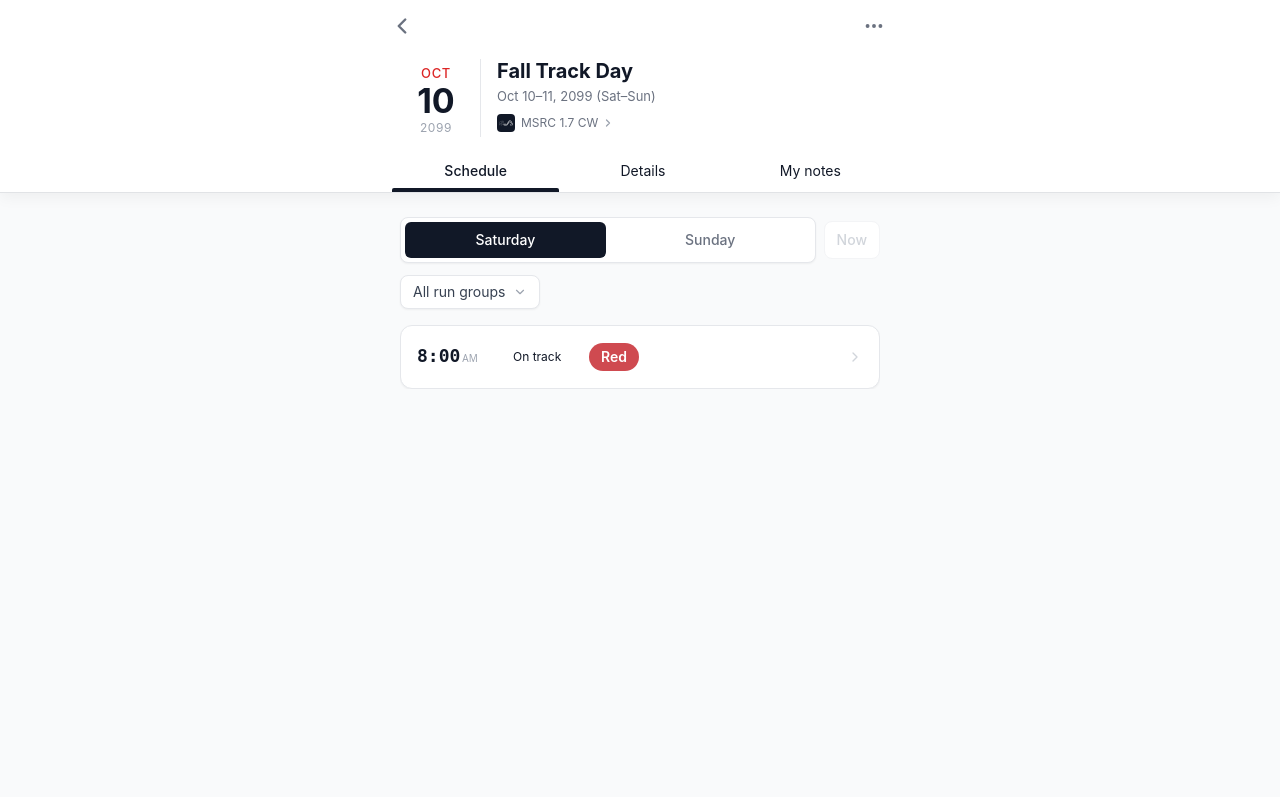
Edit details (#232) › opens from the event menu with the details filled in, saves them, and goes back with a toast
The width and height of the screenshot is (1280, 797).
Step 1. Click the button named "More actions" → [874, 26], box [856,8,892,44]
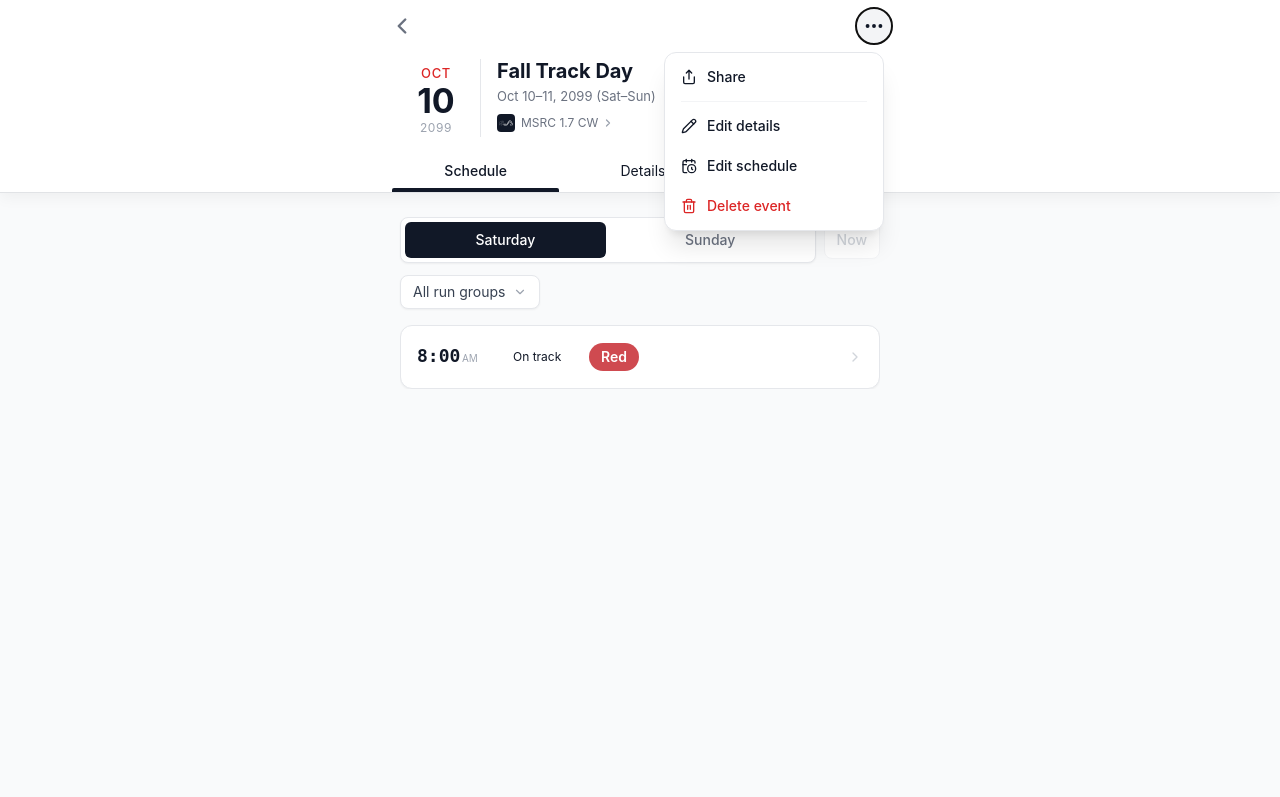
Step 2. Click the menu item "Edit details" → [774, 126], box [669,106,879,146]
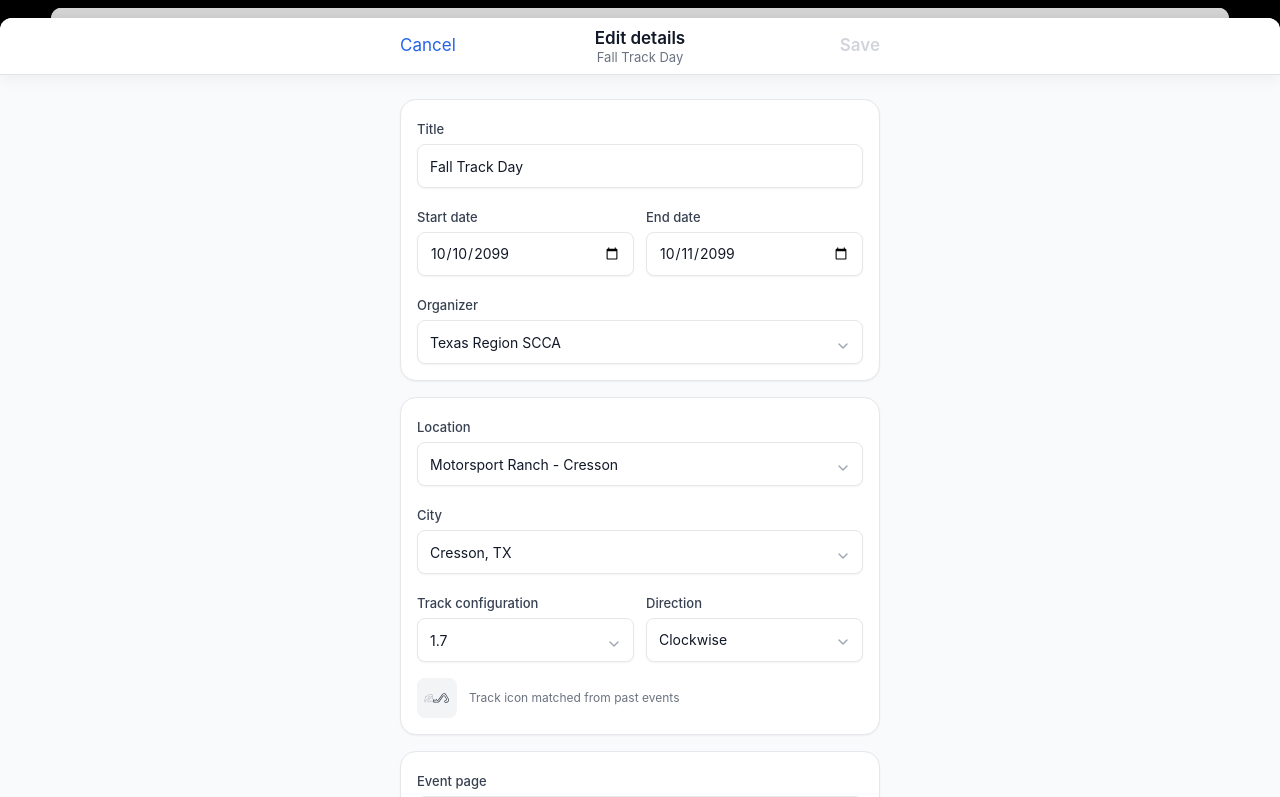
Expected: the heading "Edit details" is shown, [595,27,685,49]
Expected: the field labelled "Title" holds "Fall Track Day"
Expected: the date field labelled "Start date" holds "2099-10-10", [417,232,634,276]
Step 3. Replace the text in the field labelled "Title" with "Fall Track Day CCW" → [640, 166], box [417,144,863,188]
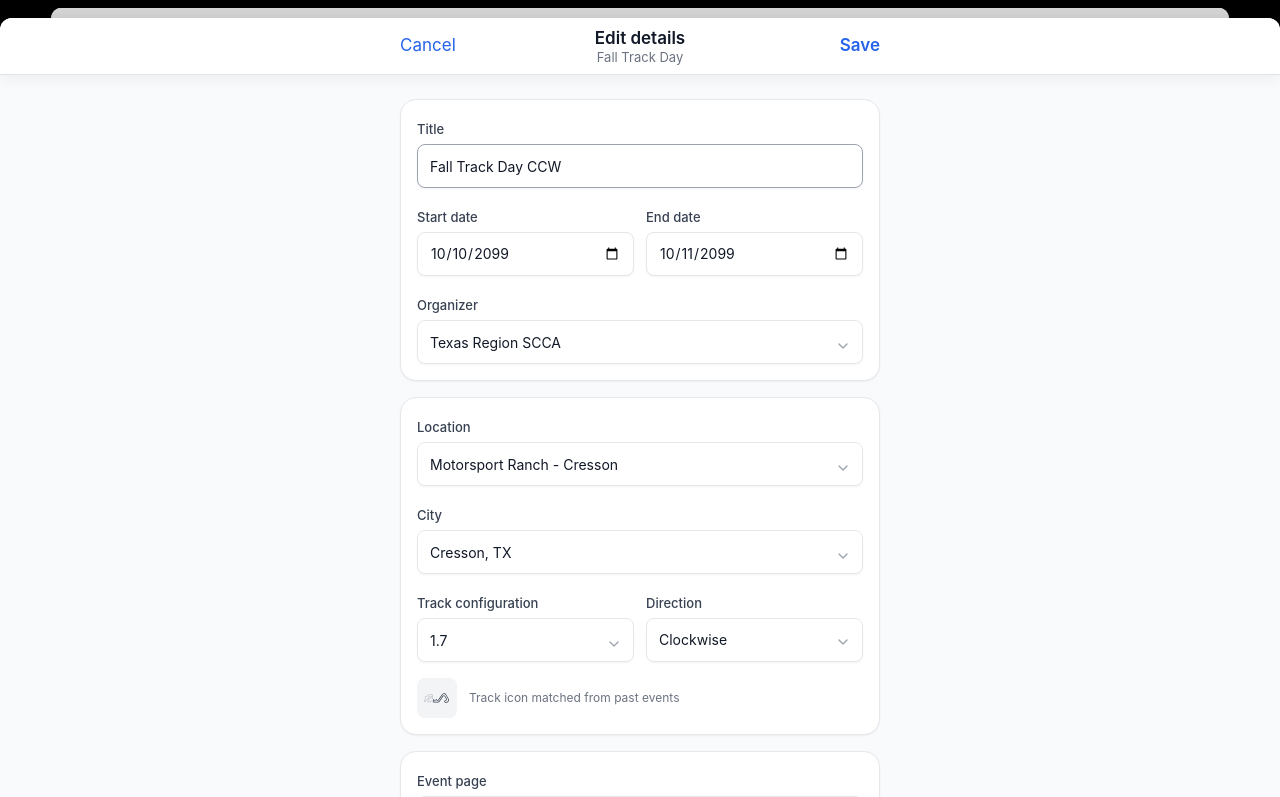
Step 4. Select "Counter-clockwise" in the dropdown labelled "Direction" → [754, 640], box [646,618,863,662]
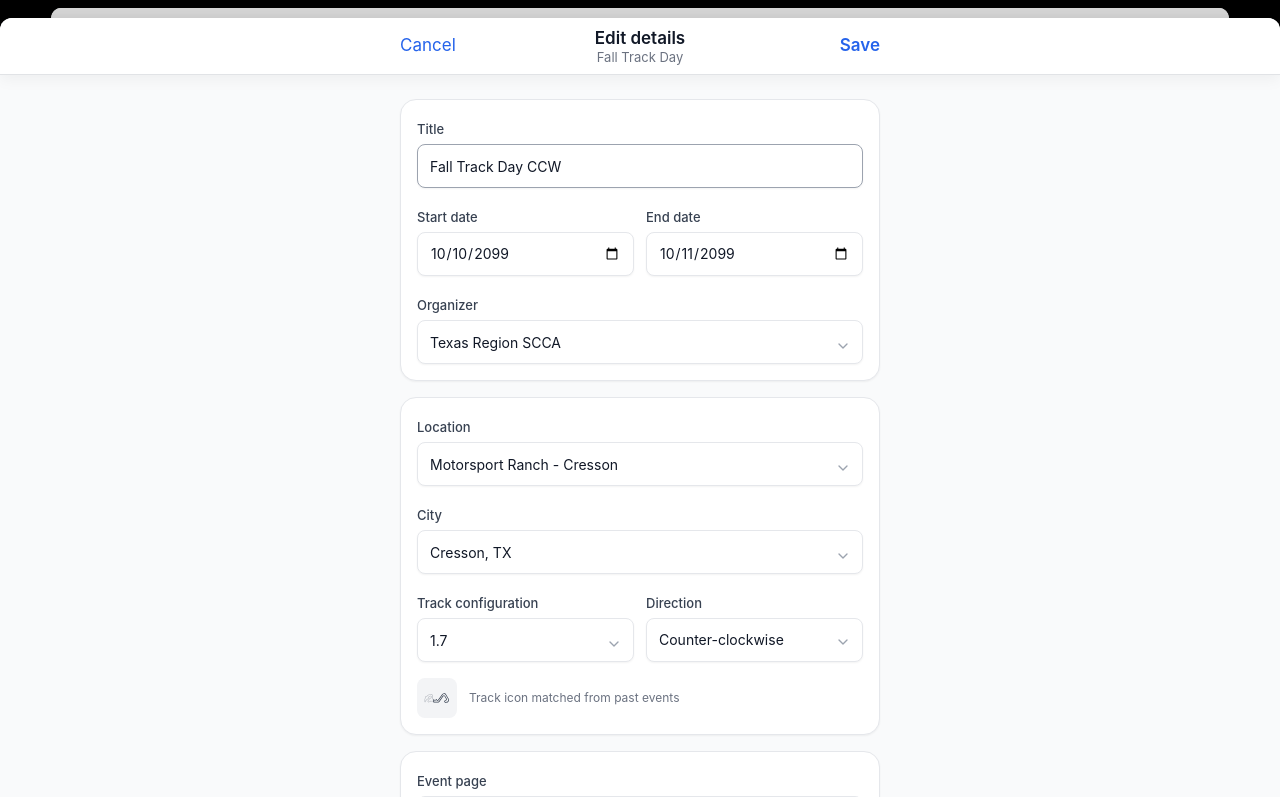
Step 5. Click the button "Save" → [860, 46], box [832,25,888,67]
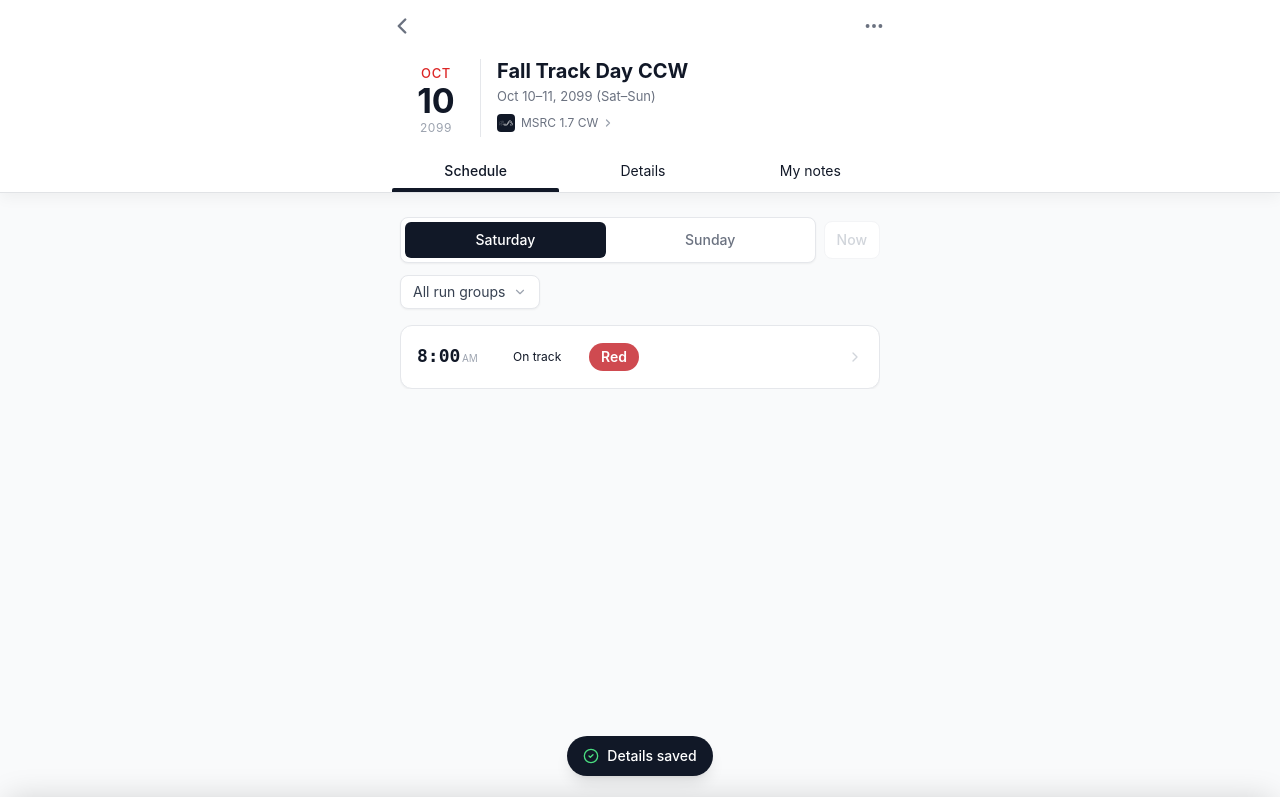
Expected: the message reads "Details saved", [607,747,697,764]
